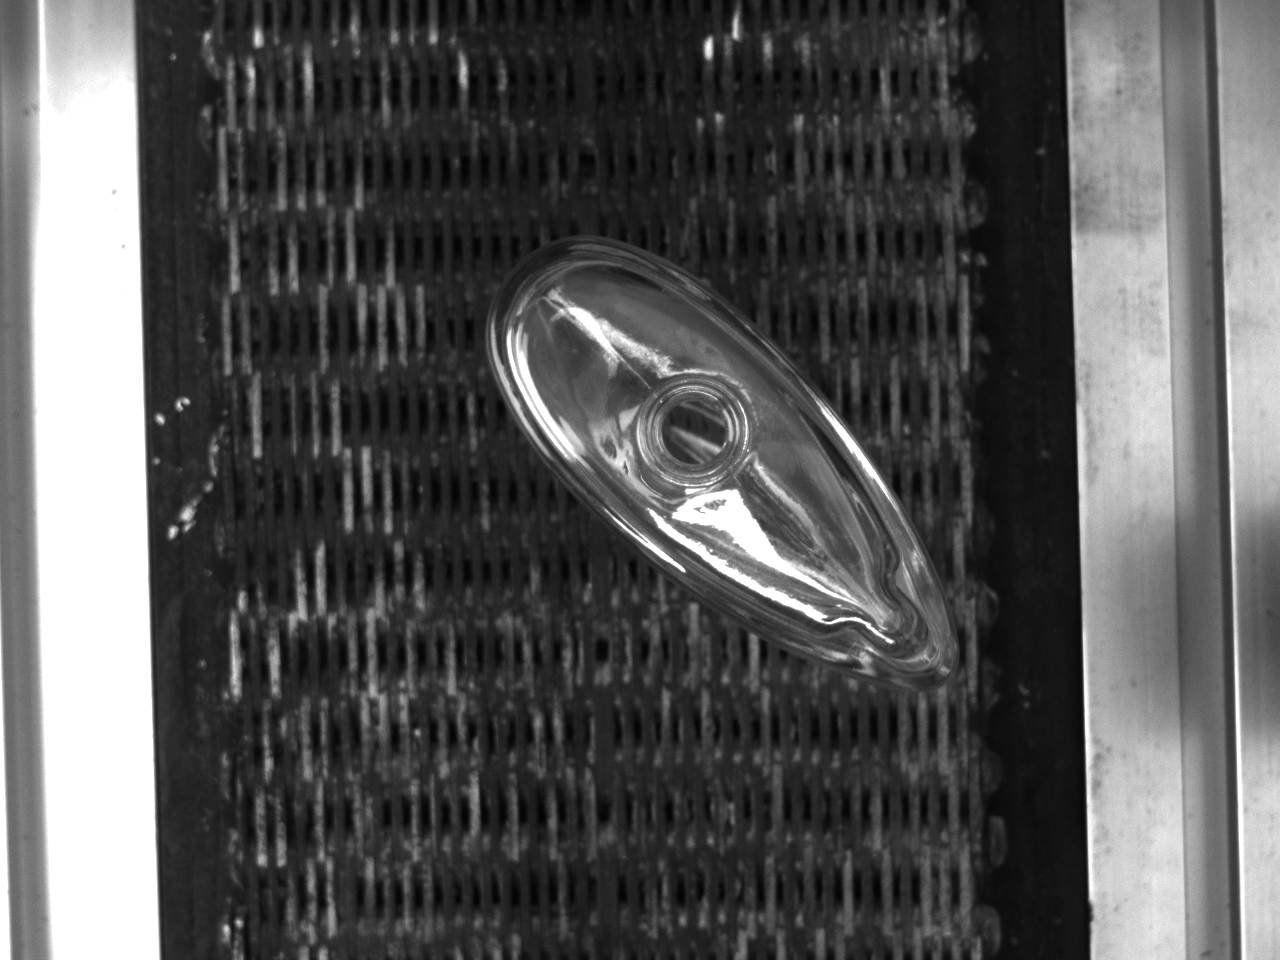bottleneck: (642, 373, 751, 487)
